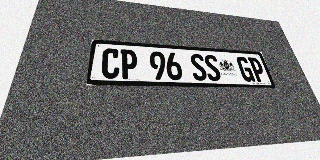6: (165, 52, 183, 80)
9: (149, 51, 167, 80)
C: (101, 48, 120, 79)
G: (235, 56, 256, 82)
P: (247, 57, 268, 82), (120, 49, 137, 79)
S: (189, 53, 208, 81), (203, 54, 222, 81)
